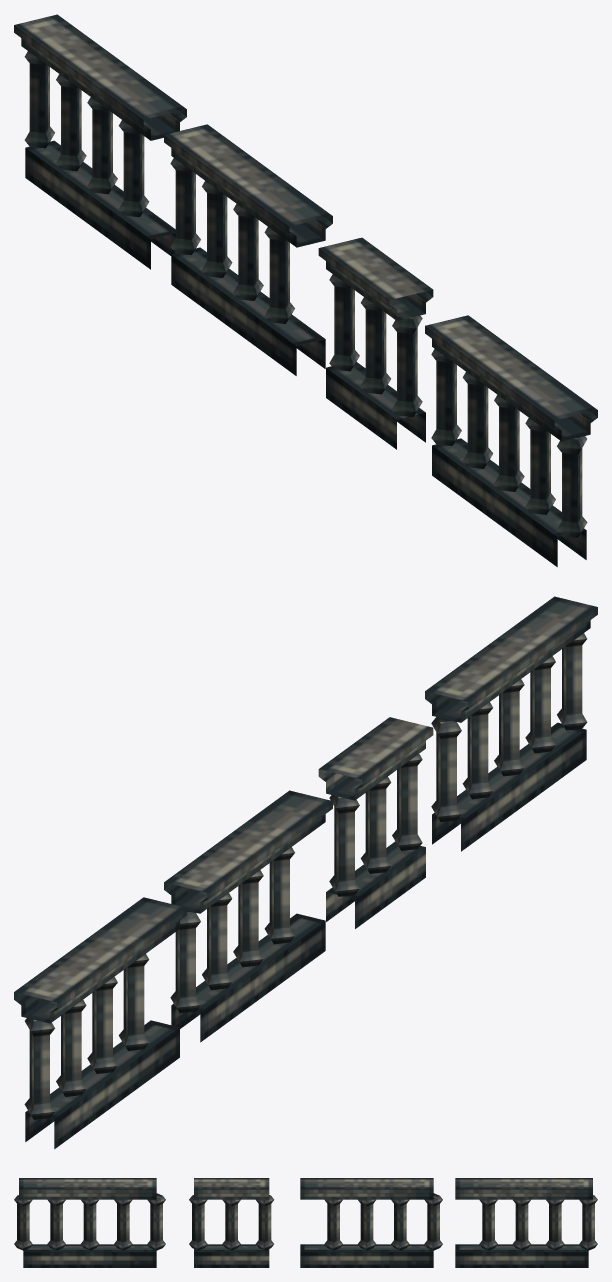
Rendered from EnvMdrMD_Daiseidou_A_Fence_D_End_A.FBX.
The picture shows the model from 3 angles, top to bottom: view 1: azimuth 30°, elevation 25°; view 2: azimuth 150°, elevation 25°; view 3: azimuth 270°, elevation 25°; orthographic projection. The views are drawn at different scales.
Parts seen in each view (by area): view 1: EnvMdrMD_Daiseidou_A_Fence_D_End_A, EnvMdrMD_Daiseidou_A_Fence_D_Start_A, EnvMdrMD_Daiseidou_A_Fence_D_Loop_A, EnvMdrMD_Daiseidou_A_Fence_D_Harf_A; view 2: EnvMdrMD_Daiseidou_A_Fence_D_End_A, EnvMdrMD_Daiseidou_A_Fence_D_Start_A, EnvMdrMD_Daiseidou_A_Fence_D_Loop_A, EnvMdrMD_Daiseidou_A_Fence_D_Harf_A; view 3: EnvMdrMD_Daiseidou_A_Fence_D_End_A, EnvMdrMD_Daiseidou_A_Fence_D_Start_A, EnvMdrMD_Daiseidou_A_Fence_D_Loop_A, EnvMdrMD_Daiseidou_A_Fence_D_Harf_A.
Boxes of the visible parts, x1,y1,x2,y2 form: EnvMdrMD_Daiseidou_A_Fence_D_End_A: (425,315,597,567); EnvMdrMD_Daiseidou_A_Fence_D_Start_A: (14,14,186,269); EnvMdrMD_Daiseidou_A_Fence_D_Loop_A: (164,124,332,375); EnvMdrMD_Daiseidou_A_Fence_D_Harf_A: (318,237,433,449); EnvMdrMD_Daiseidou_A_Fence_D_End_A: (425,596,597,851); EnvMdrMD_Daiseidou_A_Fence_D_Start_A: (14,897,186,1149); EnvMdrMD_Daiseidou_A_Fence_D_Loop_A: (164,790,332,1042); EnvMdrMD_Daiseidou_A_Fence_D_Harf_A: (318,717,433,928); EnvMdrMD_Daiseidou_A_Fence_D_End_A: (14,1178,165,1267); EnvMdrMD_Daiseidou_A_Fence_D_Start_A: (455,1178,597,1267); EnvMdrMD_Daiseidou_A_Fence_D_Loop_A: (300,1178,442,1267); EnvMdrMD_Daiseidou_A_Fence_D_Harf_A: (189,1178,274,1267).
Bounding box in the file's own units: 30 × 100 × 657.
1 material, 1 textured.
